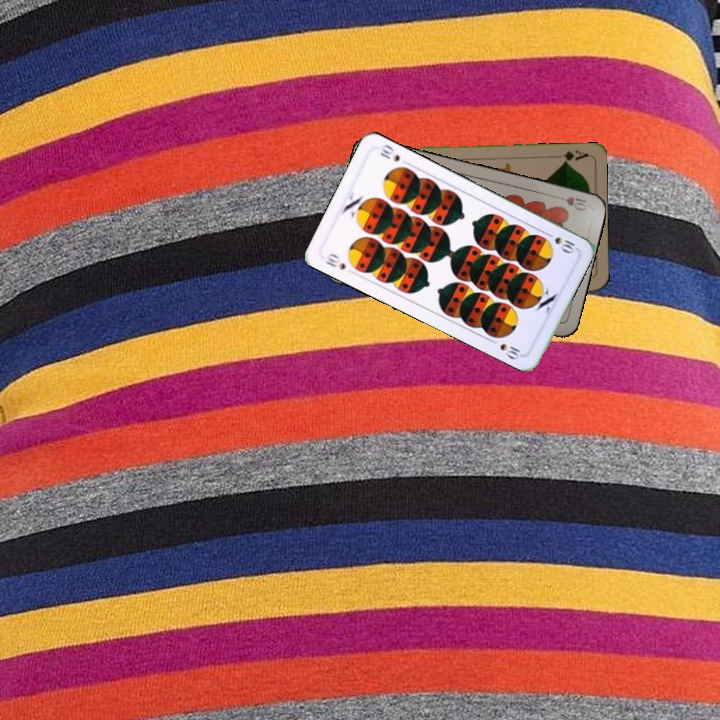GA: (550, 146, 590, 166)
H10: (551, 192, 589, 214)
S10: (541, 228, 577, 256), (321, 249, 348, 272)
